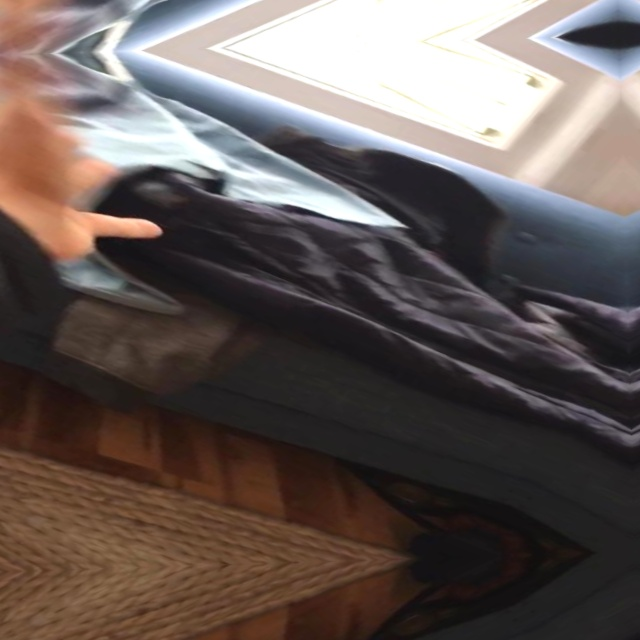Paper: (0, 0, 243, 58)
